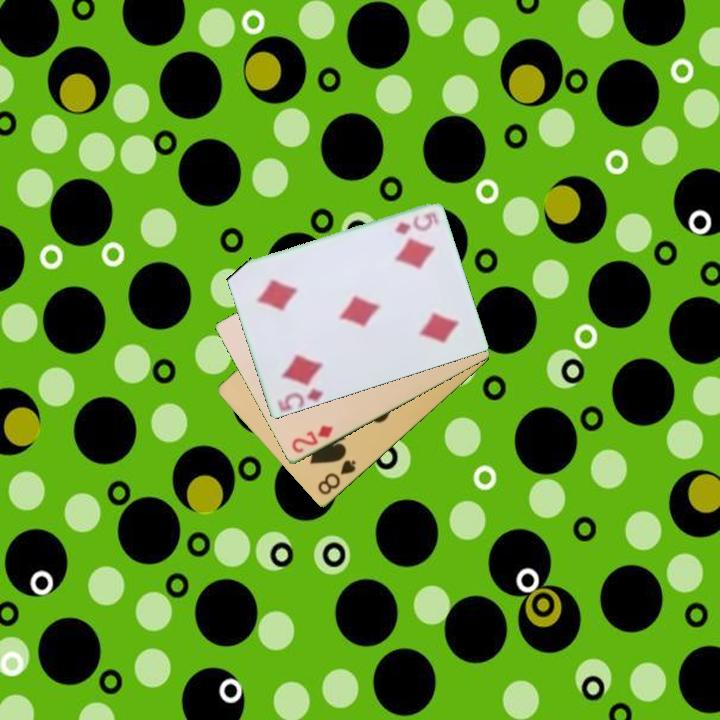2d: (288, 422, 336, 456)
5d: (391, 208, 440, 237), (275, 385, 327, 412)
8s: (314, 456, 359, 498)
